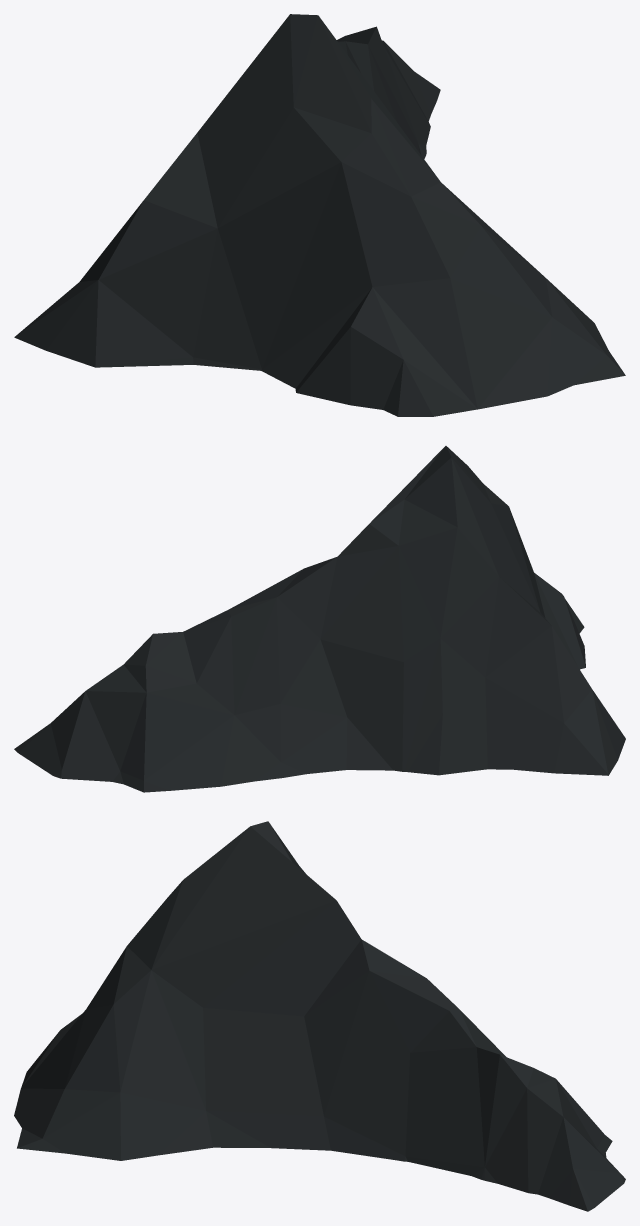
Rendered from Vista.FBX.
The picture shows the model from 3 angles, top to bottom: view 1: azimuth 30°, elevation 25°; view 2: azimuth 150°, elevation 25°; view 3: azimuth 270°, elevation 25°; orthographic projection. The views are drawn at different scales.
Parts seen in each view (by area): view 1: Vista; view 2: Vista; view 3: Vista.
Boxes of the visible parts, box(x1,y1,x2,y2) form: Vista: box(14, 14, 625, 416); Vista: box(14, 446, 625, 792); Vista: box(14, 821, 625, 1211).
Size of the model in its own units: 113 by 56.33 by 124.
